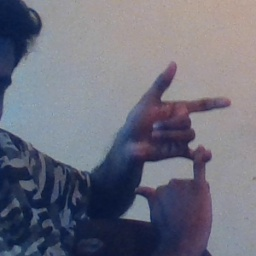S: (122, 61, 235, 225)
